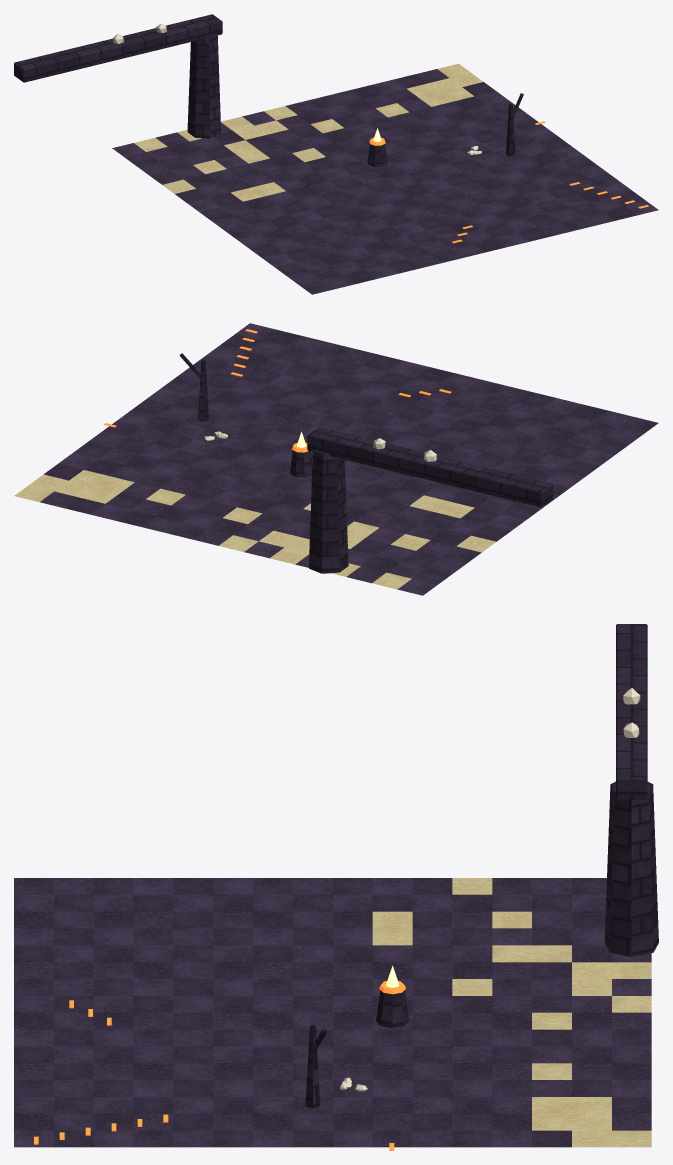
Rendered from chunk_6_22.glb.
3 views of the same model, one above another, from view 1: azimuth 30°, elevation 25°; view 2: azimuth 150°, elevation 25°; view 3: azimuth 270°, elevation 25° (orthographic). The views are drawn at different scales.
Parts seen in each view (by area): view 1: chunk_6_22; view 2: chunk_6_22; view 3: chunk_6_22.
Part boxes in pixels (x1,y1,x2,y2): chunk_6_22: (14, 14, 658, 294); chunk_6_22: (14, 323, 658, 595); chunk_6_22: (14, 624, 658, 1150).
Bounding box in the file's own units: 20.81 × 5.41 × 16.18.
7 materials, 4 textured.
